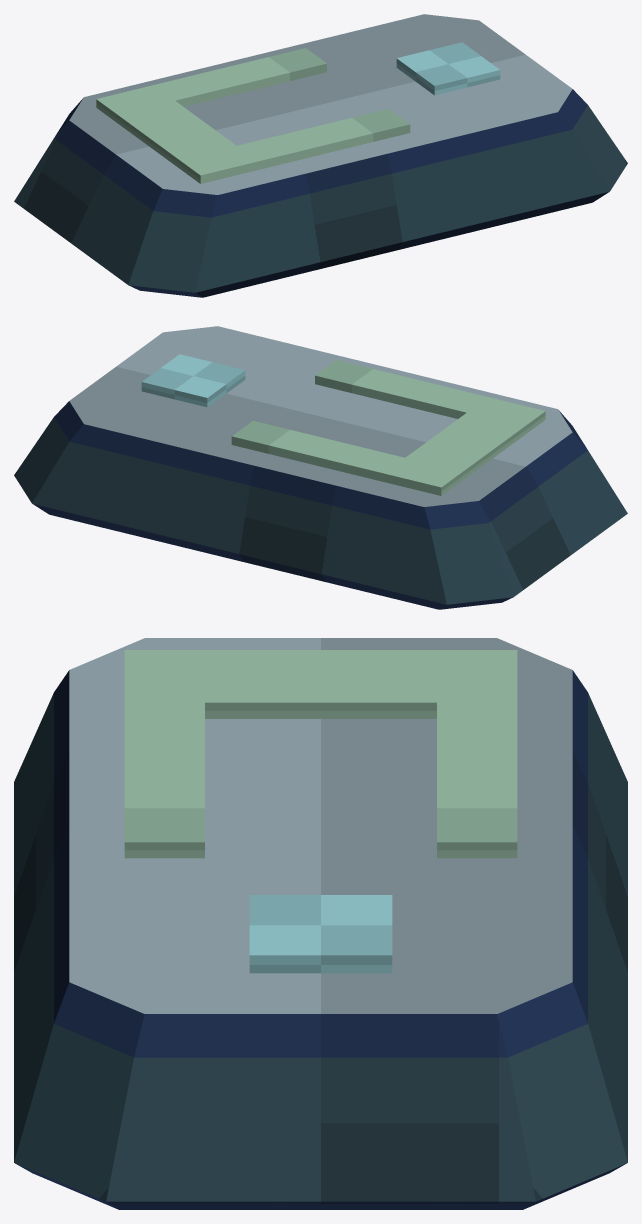
The model's file is jindan_taiyin_ingot.obj.
The picture shows the model from 3 angles, top to bottom: view 1: azimuth 30°, elevation 25°; view 2: azimuth 150°, elevation 25°; view 3: azimuth 270°, elevation 25°; orthographic projection. The views are drawn at different scales.
Visible parts, largest first — view 1: ingot_body, crescent_seal, moon_marrow; view 2: ingot_body, crescent_seal, moon_marrow; view 3: ingot_body, crescent_seal, moon_marrow.
Part boxes in pixels (x1,y1,x2,y2): ingot_body: (14, 14, 627, 297); crescent_seal: (96, 48, 410, 183); moon_marrow: (396, 42, 500, 95); ingot_body: (14, 326, 627, 609); crescent_seal: (231, 360, 545, 495); moon_marrow: (141, 354, 245, 407); ingot_body: (14, 638, 627, 1209); crescent_seal: (124, 650, 517, 858); moon_marrow: (249, 895, 392, 973).
Size of the model in its own units: 0.38 by 0.0719 by 0.215.
